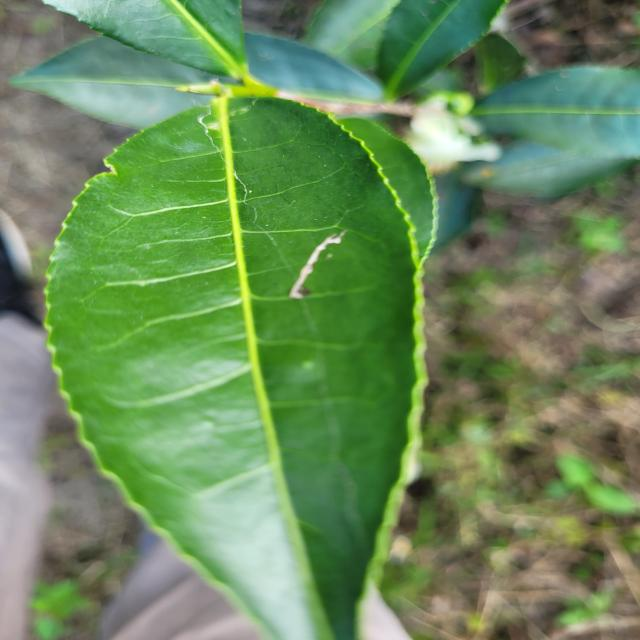Category D(7+ days, Not for Tea): (34, 81, 443, 640)
